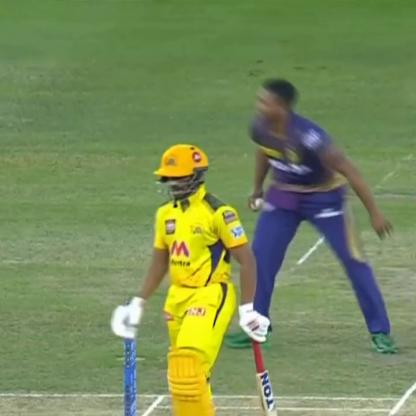ball: (245, 188, 261, 215)
